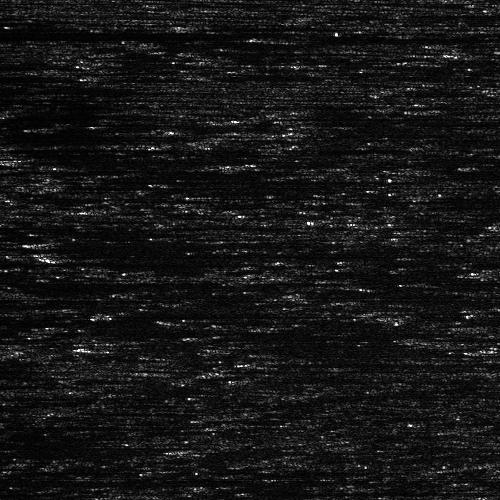rock: (0, 250, 108, 261), (221, 357, 262, 368), (80, 311, 143, 318), (222, 34, 305, 39), (0, 155, 39, 164), (26, 239, 89, 244), (183, 22, 236, 25), (0, 438, 12, 451)
shadow: (0, 438, 191, 451), (0, 29, 187, 40), (0, 290, 79, 309), (0, 23, 114, 34), (0, 296, 62, 315), (242, 357, 320, 368), (36, 250, 109, 261), (264, 34, 415, 39), (0, 155, 69, 164), (112, 311, 188, 318), (58, 239, 131, 244), (210, 22, 284, 25)
